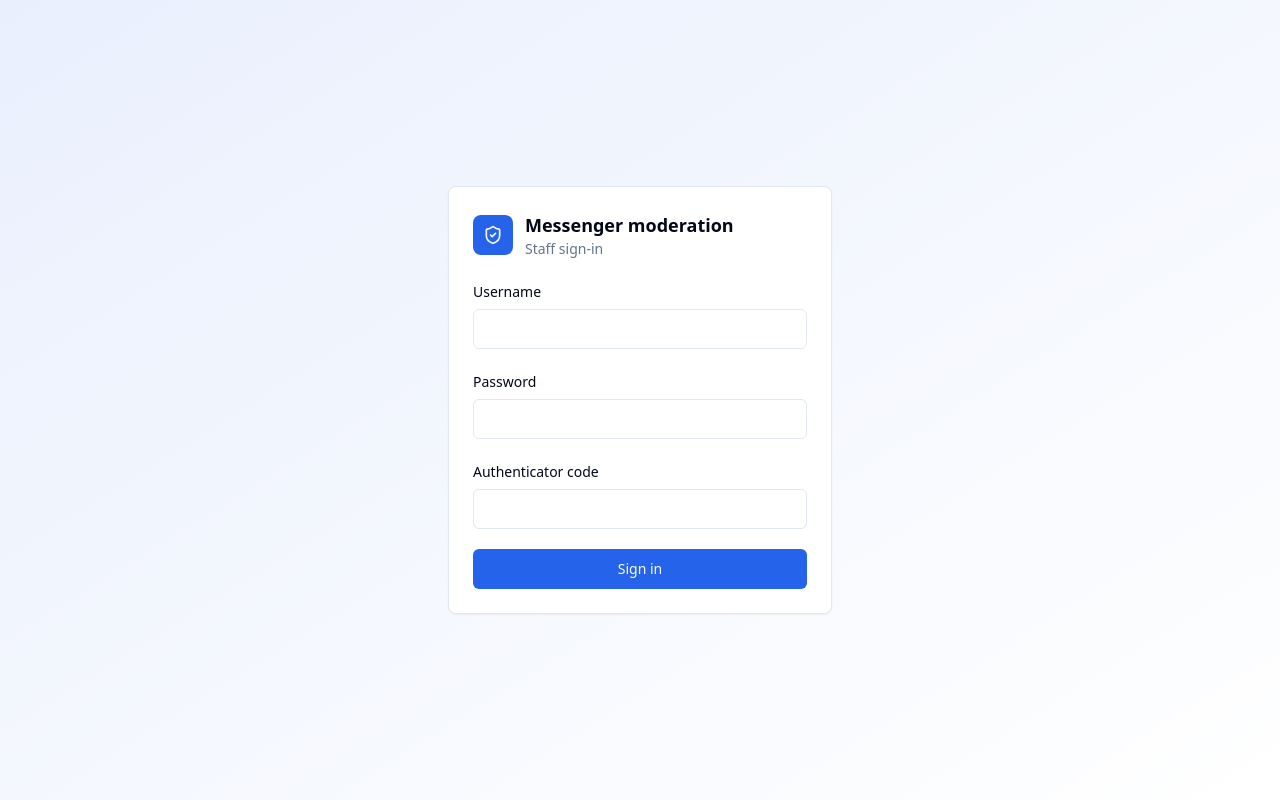
Test: App › signs in with username, password and code, then shows the shell
Type "operator" into the field labelled "Username".
click(640, 329); type("operator")  # box [473,309,807,349]
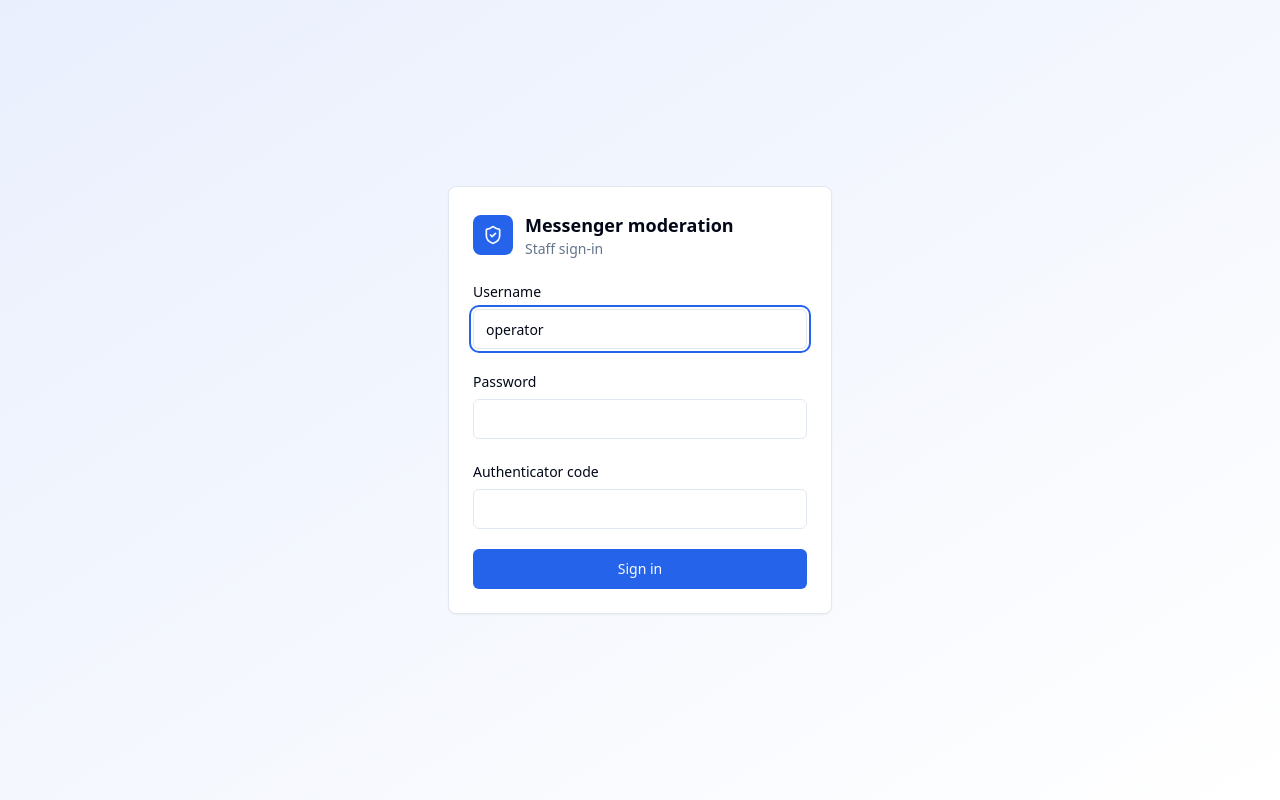
Type "a long enough password" into the password field labelled "Password".
click(640, 419); type("a long enough password")  # box [473,399,807,439]
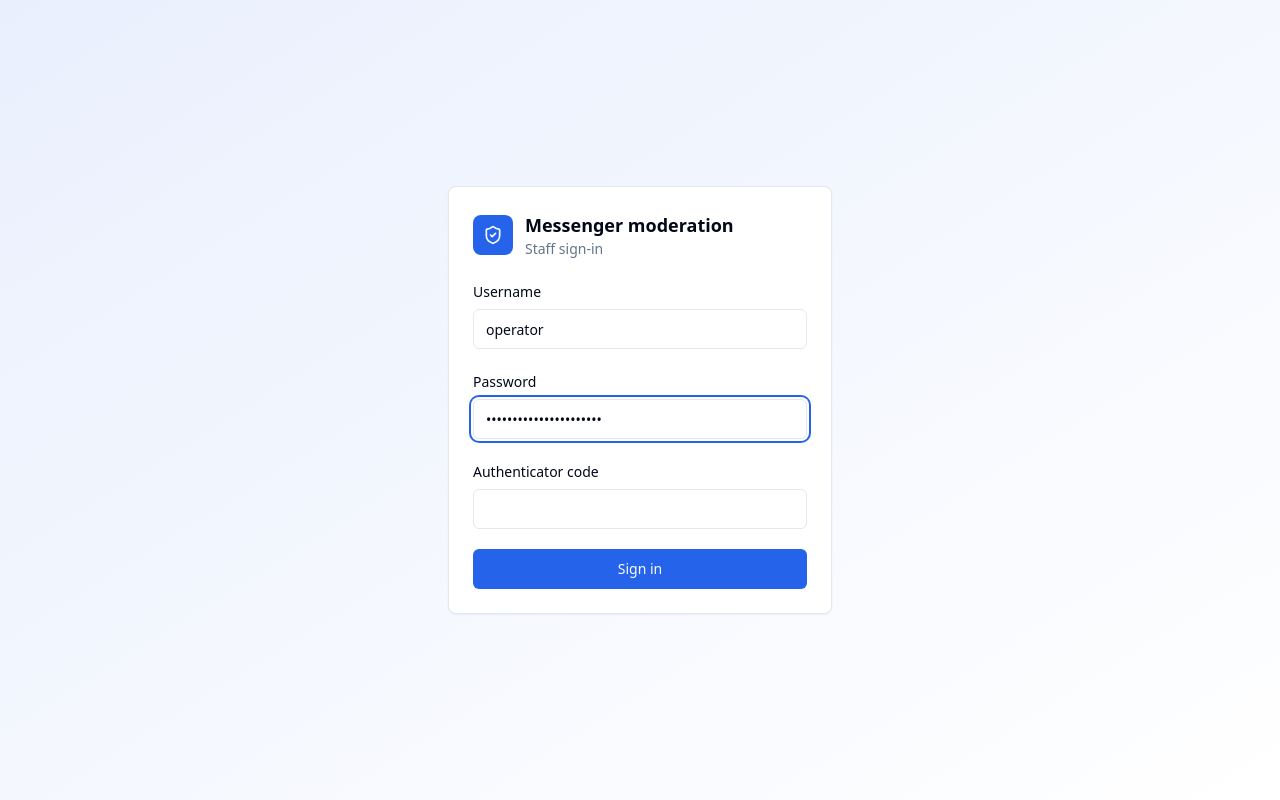
Type "12a3456" into the field labelled "Authenticator code".
click(640, 509); type("12a3456")  # box [473,489,807,529]
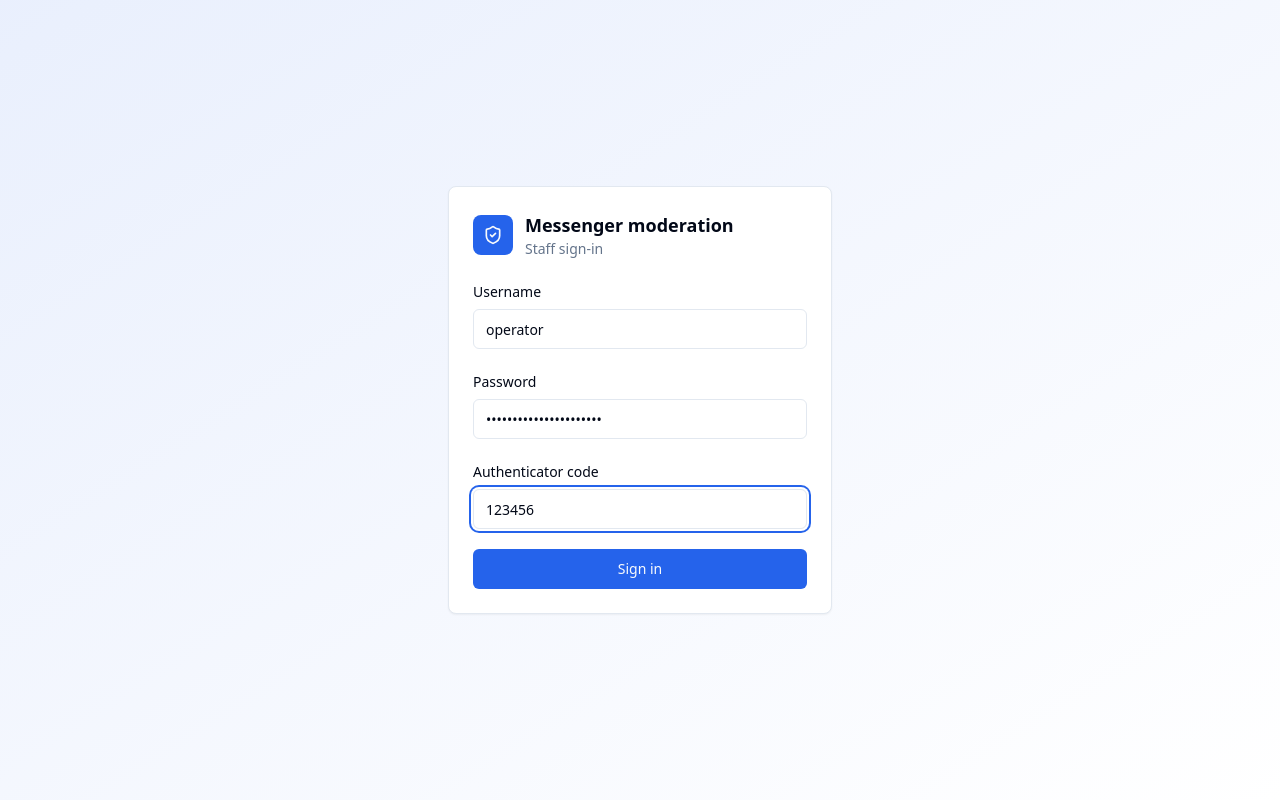
Expected: the field labelled "Authenticator code" holds "123456", [473,489,807,529]
Click the button "Sign in".
click(640, 569)  # box [473,549,807,589]
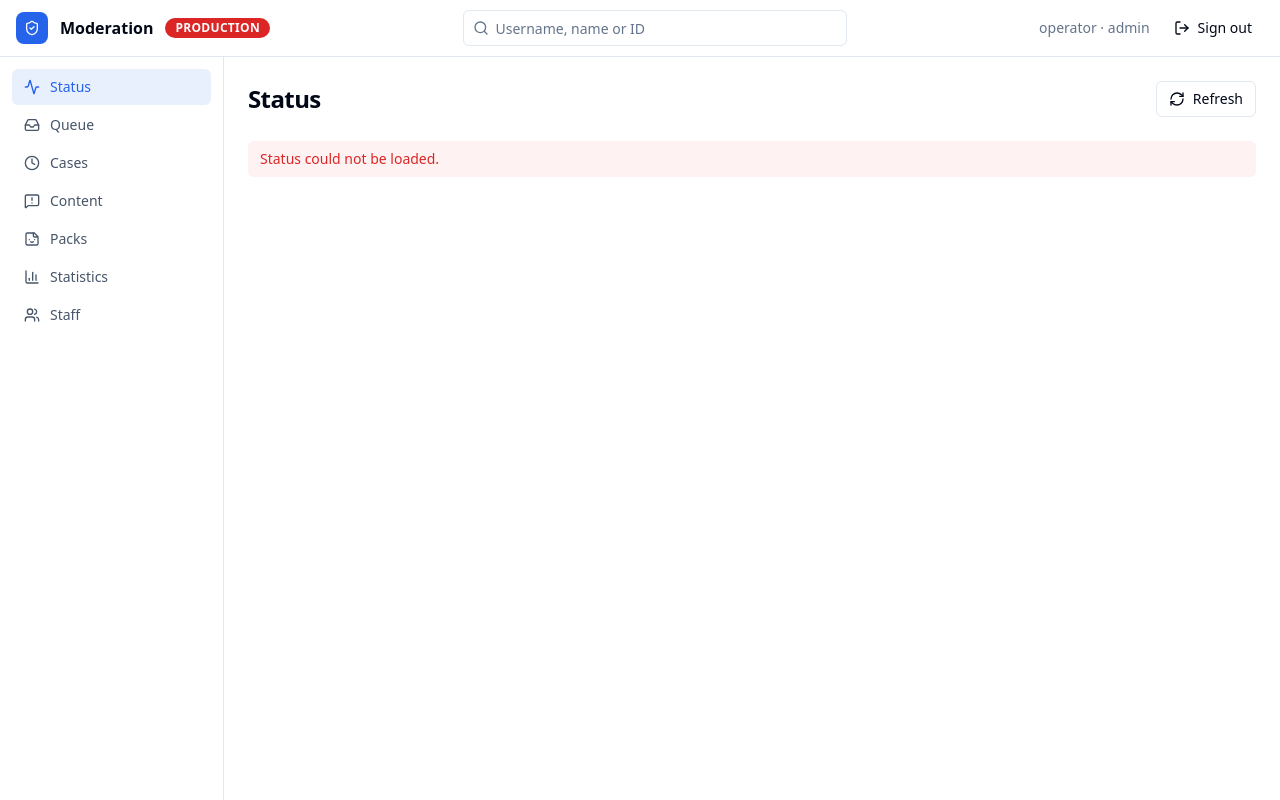
Expected: the heading "Status" is shown, [248,83,321,115]
Expected: the text with test id "environment" reads "production", [175,19,260,36]
